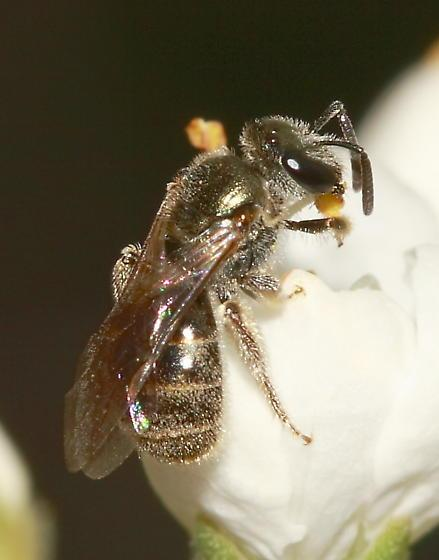Lasioglossum: (59, 88, 381, 479)
